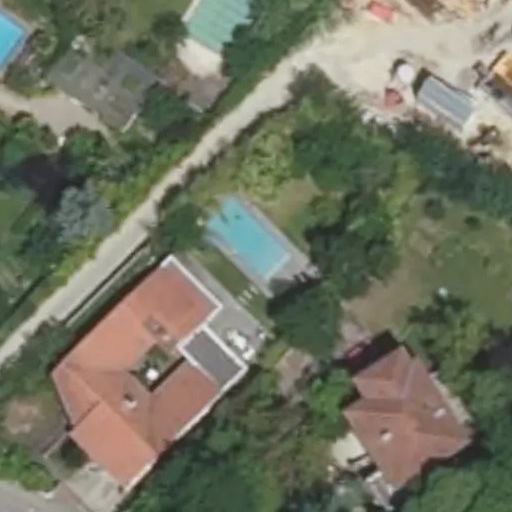pool: (213, 227, 298, 256)
